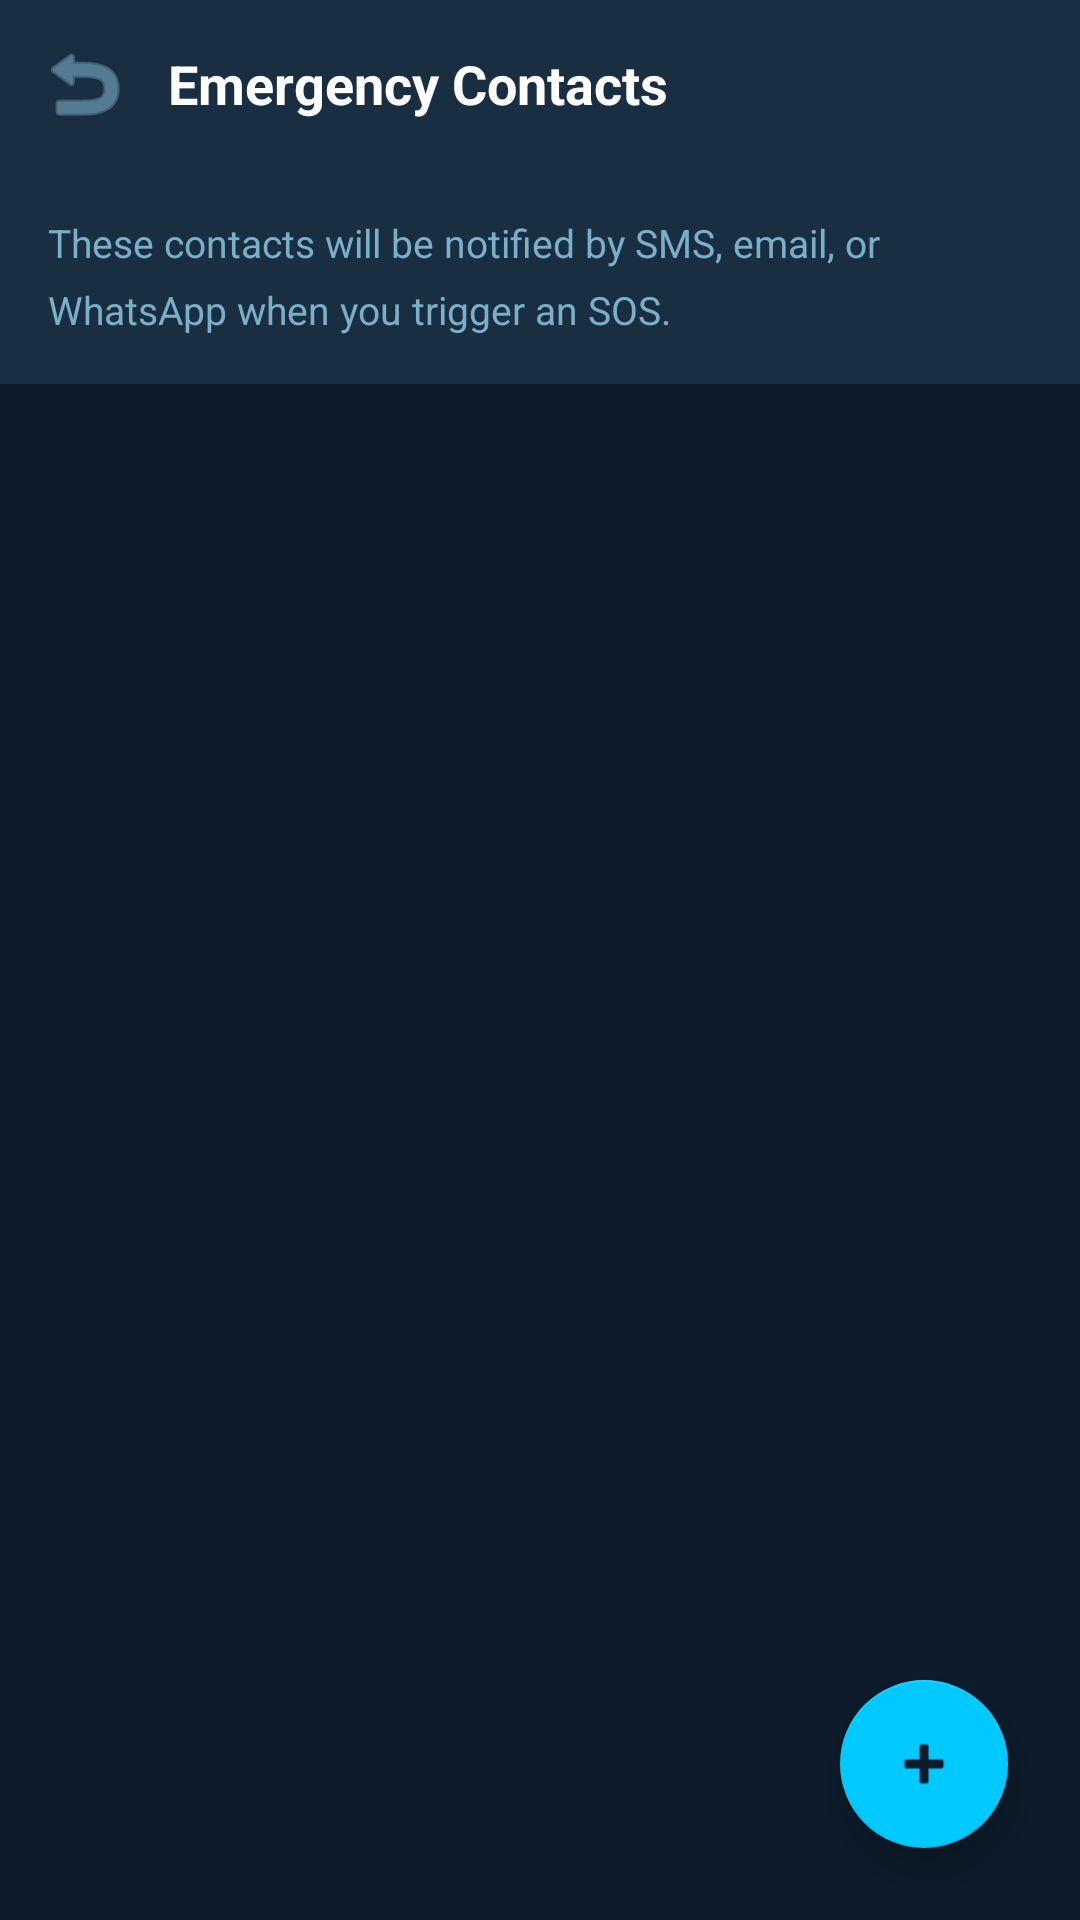

Where icons sit on this 1080 × 1920 app screen, as box=[x1, y1, x2, y2]:
add: box=[840, 1680, 1008, 1848]
revert: box=[51, 54, 120, 116]
